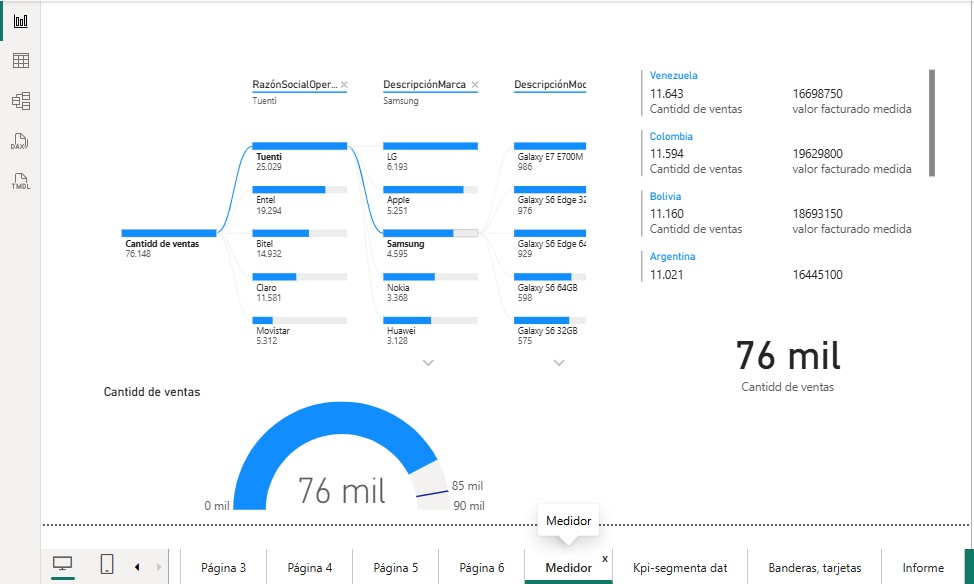

The dashboard page shown, as its layout file describes it:
{"tool":"powerbi","page":{"name":"Medidor","canvas":[1280,720],"ordinal":6},"visuals":[{"type":"decompositionTreeVisual","fields":{"Analyze":["Factura.Cantidd de ventas"],"ExplainBy":["Operador.RazónSocialOperador","Marca.DescripciónMarca","Modelo.DescripciónModelo","Departamento.NombreDepartamento","Distribuidor.RazónSocialDistribuidor","País.Pais"]},"box":[80.6,89,673.6,438.4],"z":0},{"type":"gauge","fields":{"Y":["Factura.Cantidd de ventas"]},"box":[80.6,527.5,673.6,183.1],"z":1000},{"type":"card","fields":{"Values":["Factura.Cantidd de ventas"]},"box":[819.7,325.9,414.9,330.9],"z":2000},{"type":"multiRowCard","fields":{"Values":["Factura.Cantidd de ventas","País.Pais","Factura.valor facturado medida"]},"box":[819.7,89,414.9,302.4],"z":3000}]}

Visuals, with their boxes on the page's 1280x720 design canvas (x1, y1, x2, y2). These are canvas units, not pixel positions in the 974x584 screenshot, which may show the page scaled, cropped or inside an application window:
decompositionTreeVisual - Factura.Cantidd de ventas x Operador.RazónSocialOperador: 81/89/754/527
gauge - Factura.Cantidd de ventas: 81/528/754/711
card - Factura.Cantidd de ventas: 820/326/1235/657
multiRowCard - Factura.Cantidd de ventas x País.Pais: 820/89/1235/391
